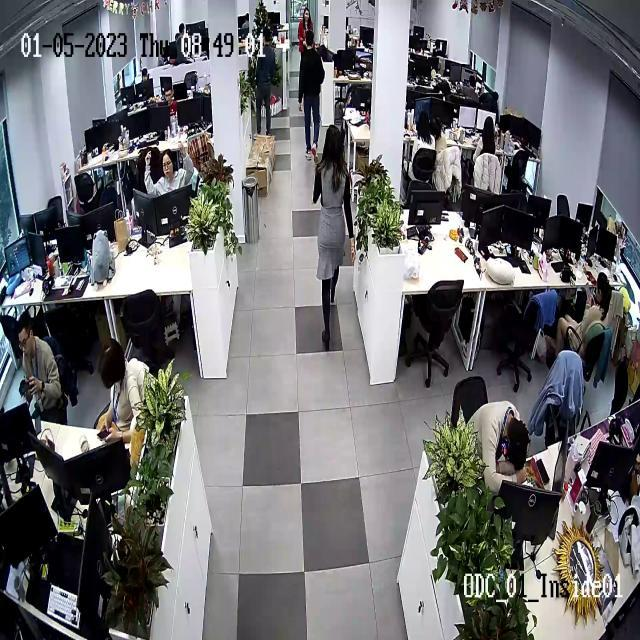person: (314, 123, 356, 353), (94, 339, 150, 451), (16, 311, 66, 427), (556, 273, 620, 358), (468, 401, 529, 490), (297, 37, 325, 163), (256, 29, 276, 136), (145, 149, 188, 195), (412, 111, 435, 171), (478, 114, 502, 165), (297, 6, 316, 54), (163, 84, 178, 131)
